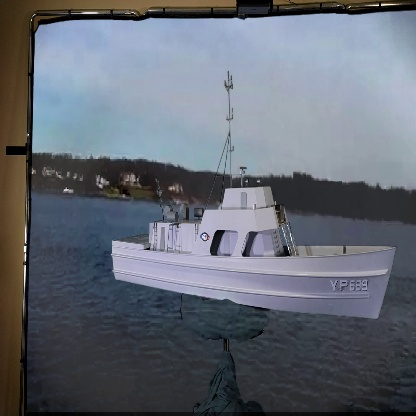YP689: (111, 72, 398, 321)
